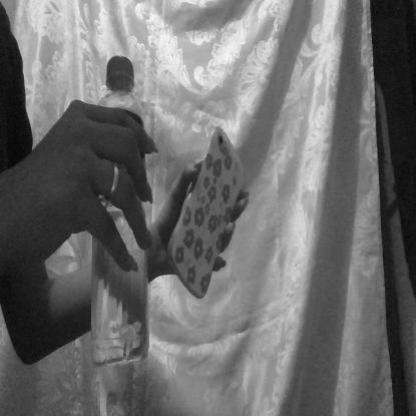Plastic Bottle: (94, 53, 148, 362)
